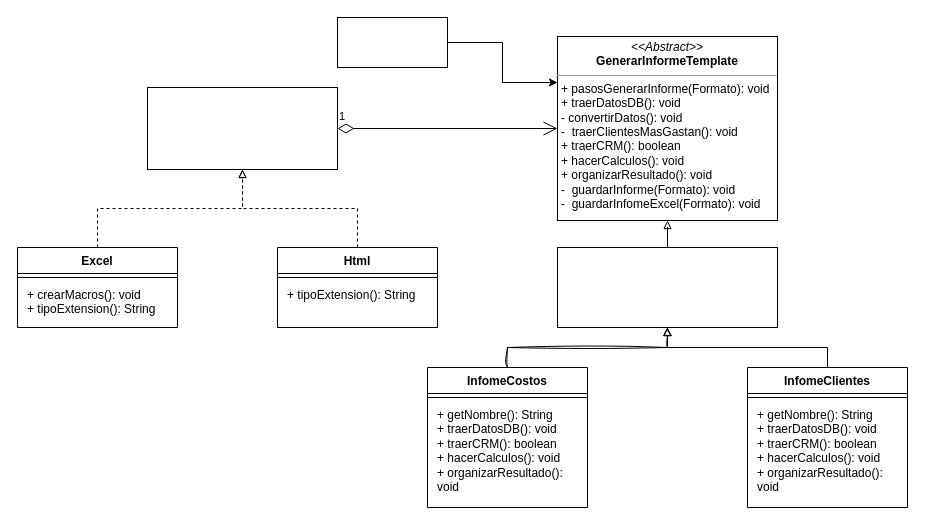
The diagram is 925 pixels wide and 528 high, and some of its shapes have lost their labels. Here are the shapes that lost their labels. From the top down, the centre of each, then its label:
At (392,42): "Main".
At (242,128): "<<Interface>> Formato + tipoExtension(): String".
At (667,287): "<<Abstract>> Informe + getNombre(): String".
